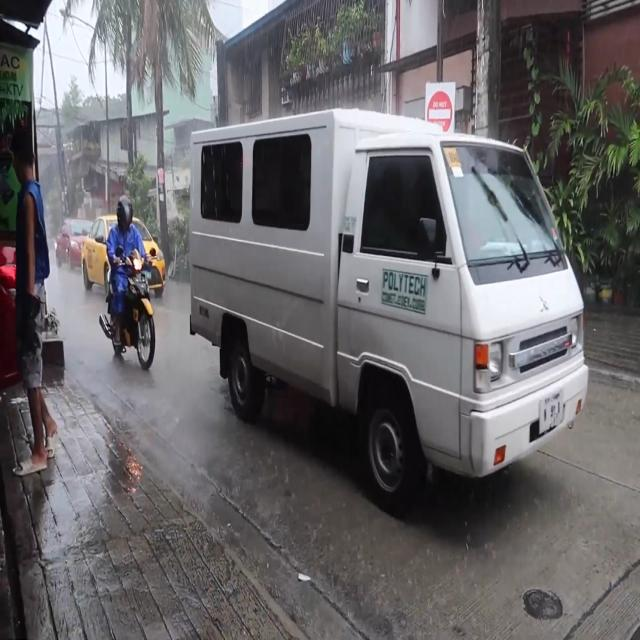half: (116, 192, 134, 235)
